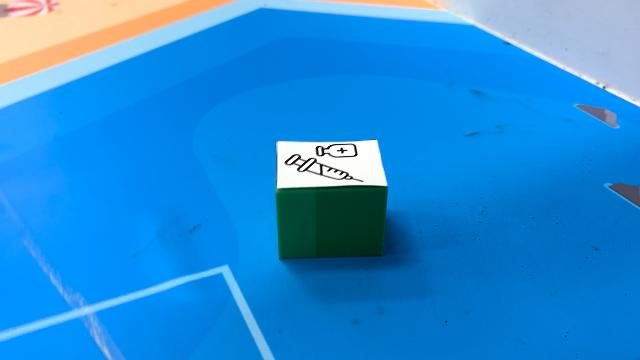syringe: (276, 138, 388, 260)
